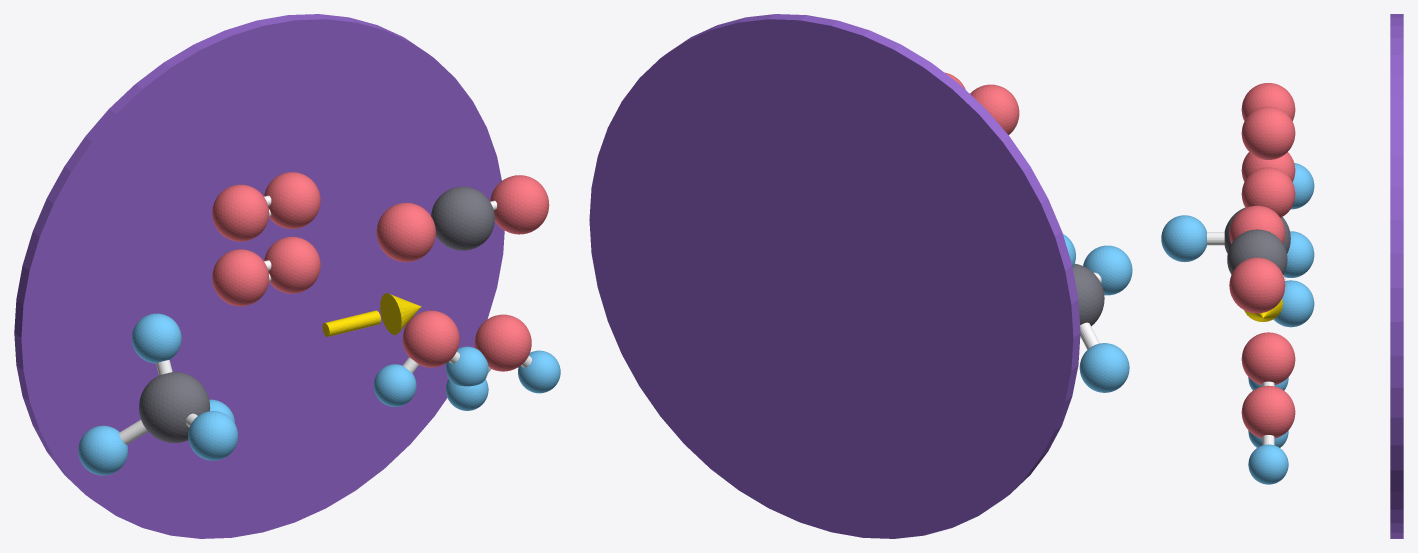
File: reacao_quimica_CORRIGIDA_Q_LAB.glb
3 views of the same model, side by side, from view 1: azimuth 30°, elevation 25°; view 2: azimuth 150°, elevation 25°; view 3: azimuth 270°, elevation 25° (orthographic). The views are drawn at different scales.
Visible parts, largest first — view 1: base, CH4_C, CO2_C, CO2_O1, CO2_O2, O2_0_O1, O2_1_O1, H2O_0_O, H2O_1_O, O2_0_O2, O2_1_O2, CH4_H_3 (+8 smaller); view 2: base, CH4_H_0, CH4_H_3, O2_1_O1, CH4_C; view 3: base, CO2_O2, O2_1_O2, H2O_1_O, H2O_0_O, O2_0_O2, CH4_H_3, CO2_C, CH4_H_1, CO2_O1, H2O_1_H2, O2_1_O1 (+5 smaller).
Boxes of the visible parts, x1,y1,x2,y2 form: base: (14,14,504,538); CH4_C: (139,372,210,443); CO2_C: (431,186,494,250); CO2_O1: (376,202,435,262); CO2_O2: (490,175,549,234); O2_0_O1: (212,249,269,306); O2_1_O1: (212,184,269,241); H2O_0_O: (402,310,459,367); H2O_1_O: (474,314,531,371); O2_0_O2: (264,236,320,293); O2_1_O2: (264,172,320,228); CH4_H_3: (188,411,237,460); base: (589,14,1080,538); CH4_H_0: (1079,343,1129,392); CH4_H_3: (1083,245,1132,295); O2_1_O1: (970,84,1019,135); CH4_C: (1073,263,1104,326); base: (1390,14,1403,538); CO2_O2: (1229,257,1285,313); O2_1_O2: (1241,106,1295,159); H2O_1_O: (1241,385,1295,438); H2O_0_O: (1241,332,1295,384); O2_0_O2: (1241,167,1295,217); CH4_H_3: (1161,215,1206,262); CO2_C: (1227,229,1287,274); CH4_H_1: (1273,280,1314,327); CO2_O1: (1229,205,1285,243); H2O_1_H2: (1248,444,1288,484); O2_1_O1: (1241,83,1295,120).
Bounding box in the file's own units: 0.47 × 0.47 × 0.217.
